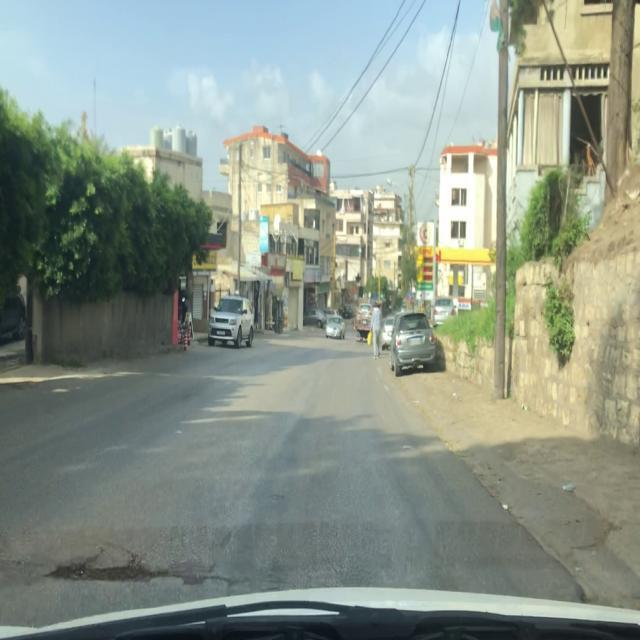Buraco: (43, 544, 175, 585)
